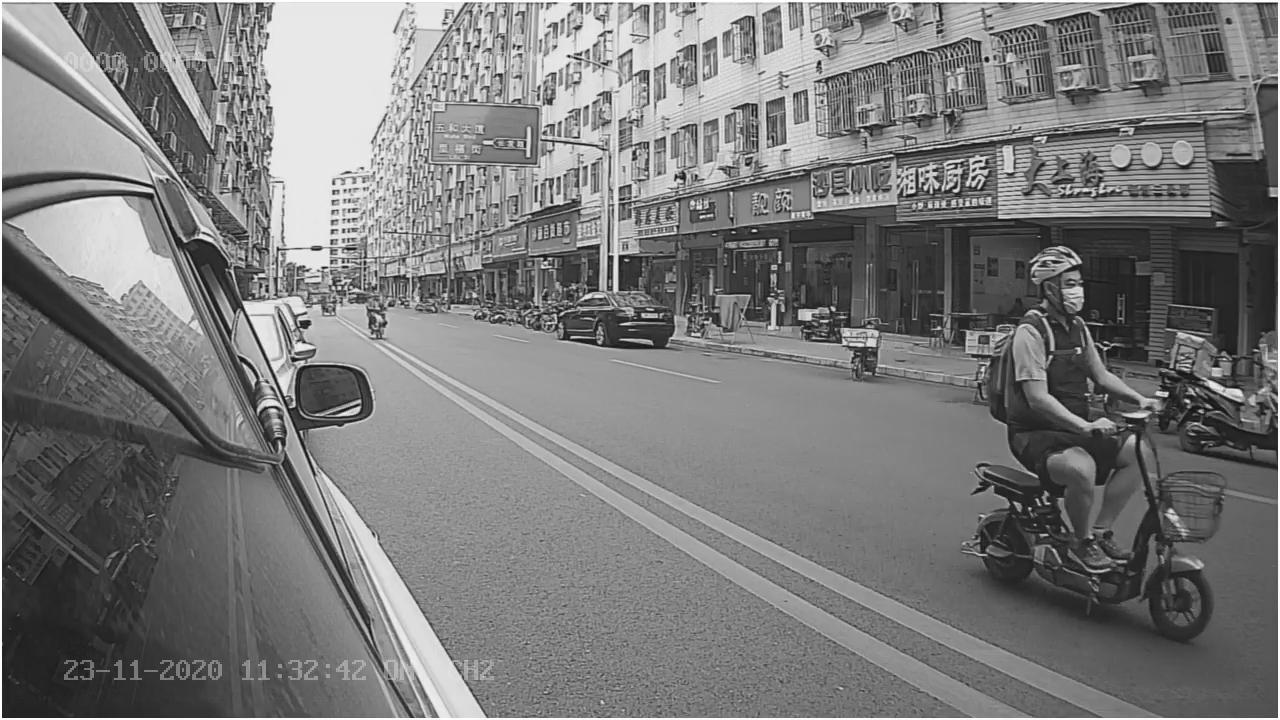person: (1004, 239, 1160, 431)
